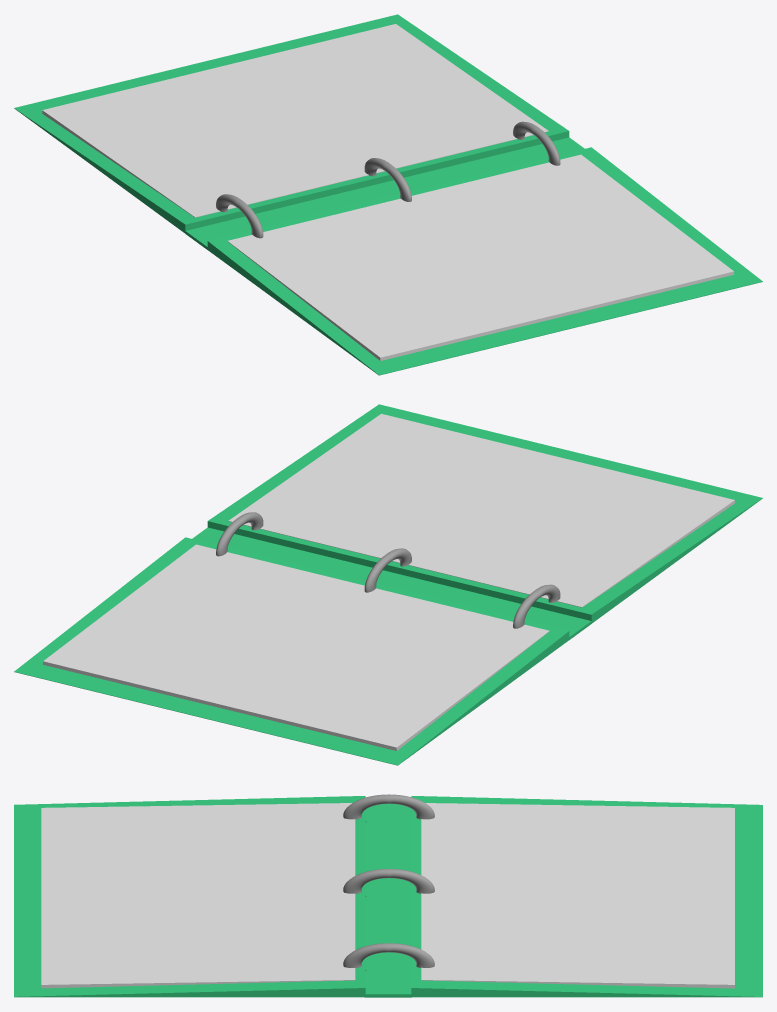
File: binder open.fbx
3 renders of one model, top to bottom at view 1: azimuth 30°, elevation 25°; view 2: azimuth 150°, elevation 25°; view 3: azimuth 270°, elevation 25°, orthographic. The views are drawn at different scales.
Visible parts, largest first — view 1: Cube.001; view 2: Cube.001; view 3: Cube.001.
Part boxes in pixels (left/top/right/bottom): Cube.001: left=14, top=14, right=762, bottom=375; Cube.001: left=14, top=404, right=762, bottom=765; Cube.001: left=14, top=794, right=762, bottom=997.
Size of the model in its own units: 258 by 20.21 by 426.
